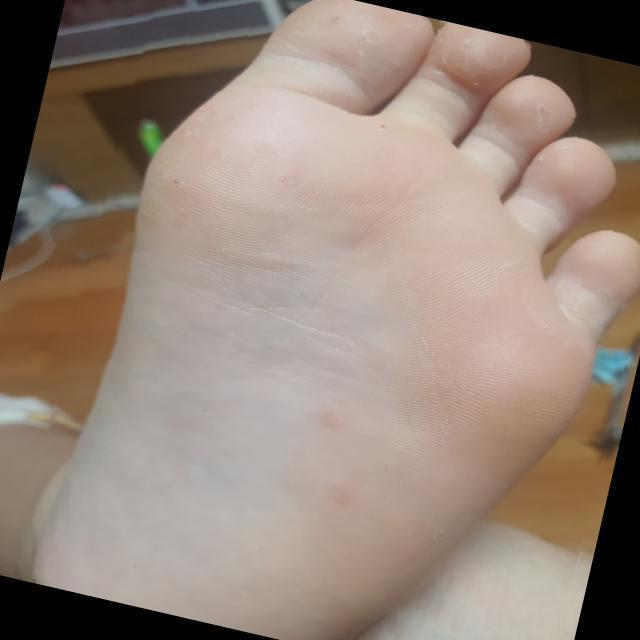No_Shoes: (58, 3, 640, 621)
